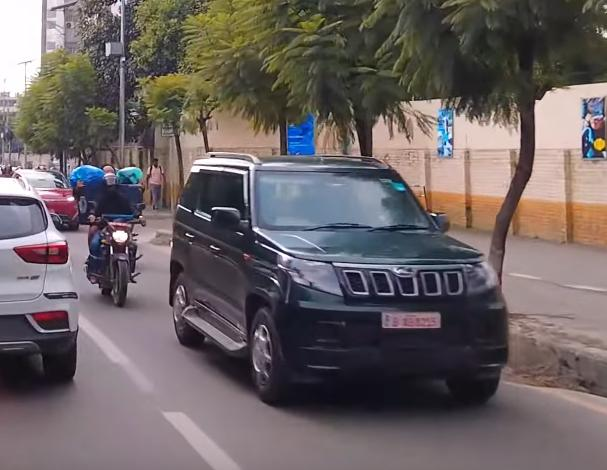SUV: (169, 141, 521, 423)
bike: (82, 197, 145, 309)
car: (0, 172, 85, 391), (11, 169, 79, 231)
